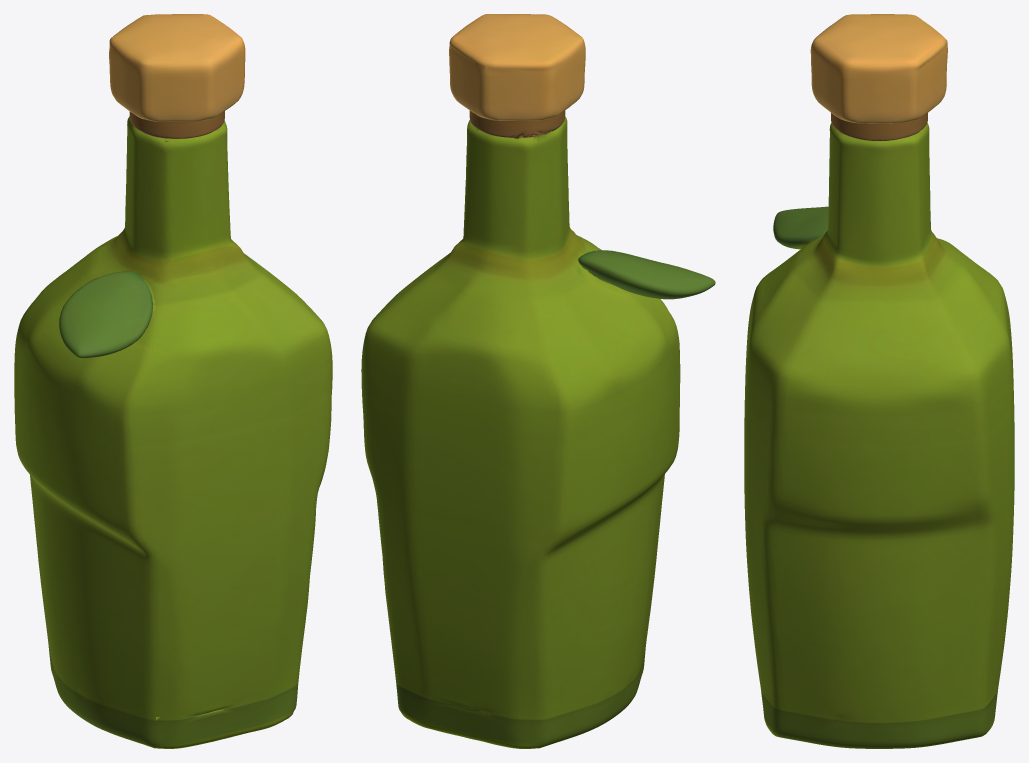
The model's file is tripo_convert_bebecd09-ca76-4682-8da4-08699ce32513.fbx.
3 views of the same model, side by side, from view 1: azimuth 30°, elevation 25°; view 2: azimuth 150°, elevation 25°; view 3: azimuth 270°, elevation 25° (orthographic).
Parts seen in each view (by area): view 1: tripo_node_bebecd09; view 2: tripo_node_bebecd09; view 3: tripo_node_bebecd09.
Part boxes in pixels (box(x1,y1,x2,y2)): tripo_node_bebecd09: box(14, 14, 332, 748); tripo_node_bebecd09: box(361, 14, 715, 748); tripo_node_bebecd09: box(744, 14, 1014, 748).
Size of the model in its own units: 41.73 by 35.58 by 98.06.
1 material, 1 textured.
